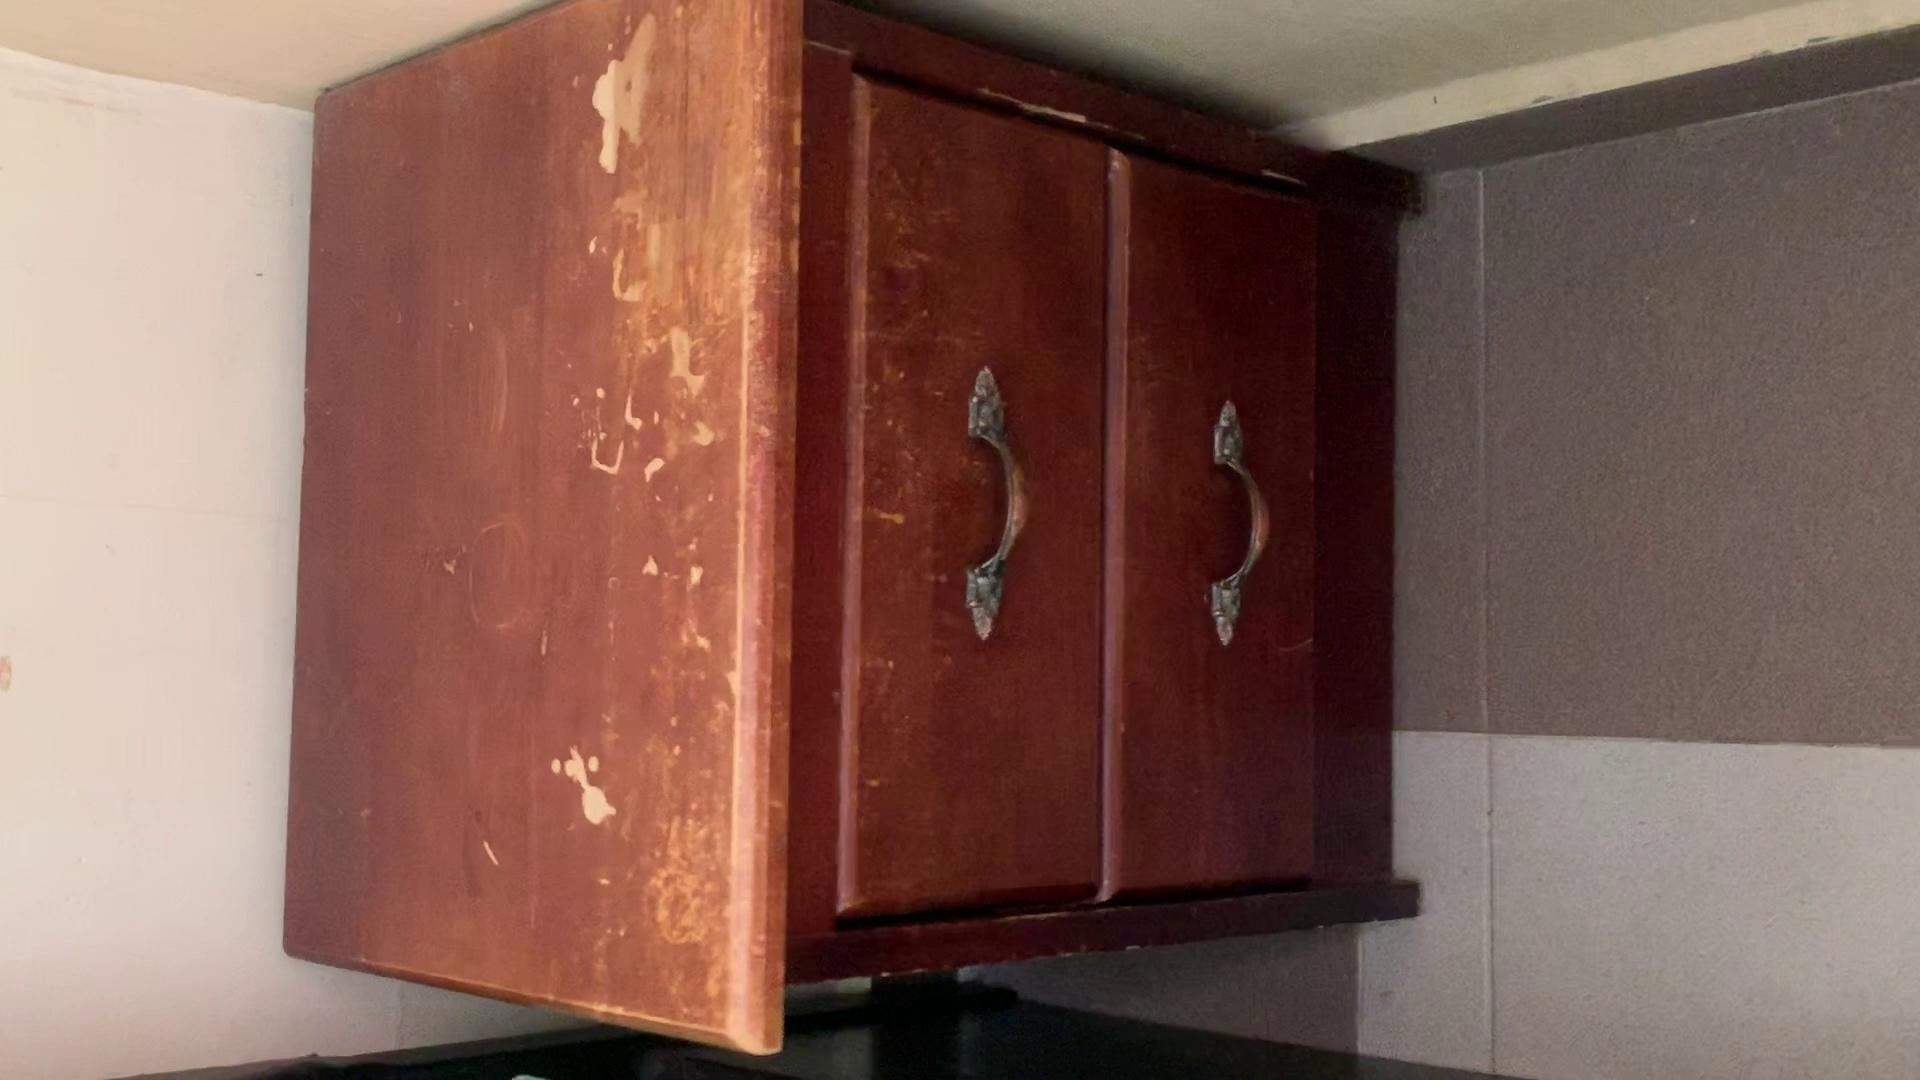cabinet_door: (827, 91, 1091, 928), (1106, 167, 1303, 895)
handle: (957, 367, 1042, 650), (1197, 401, 1284, 649)
